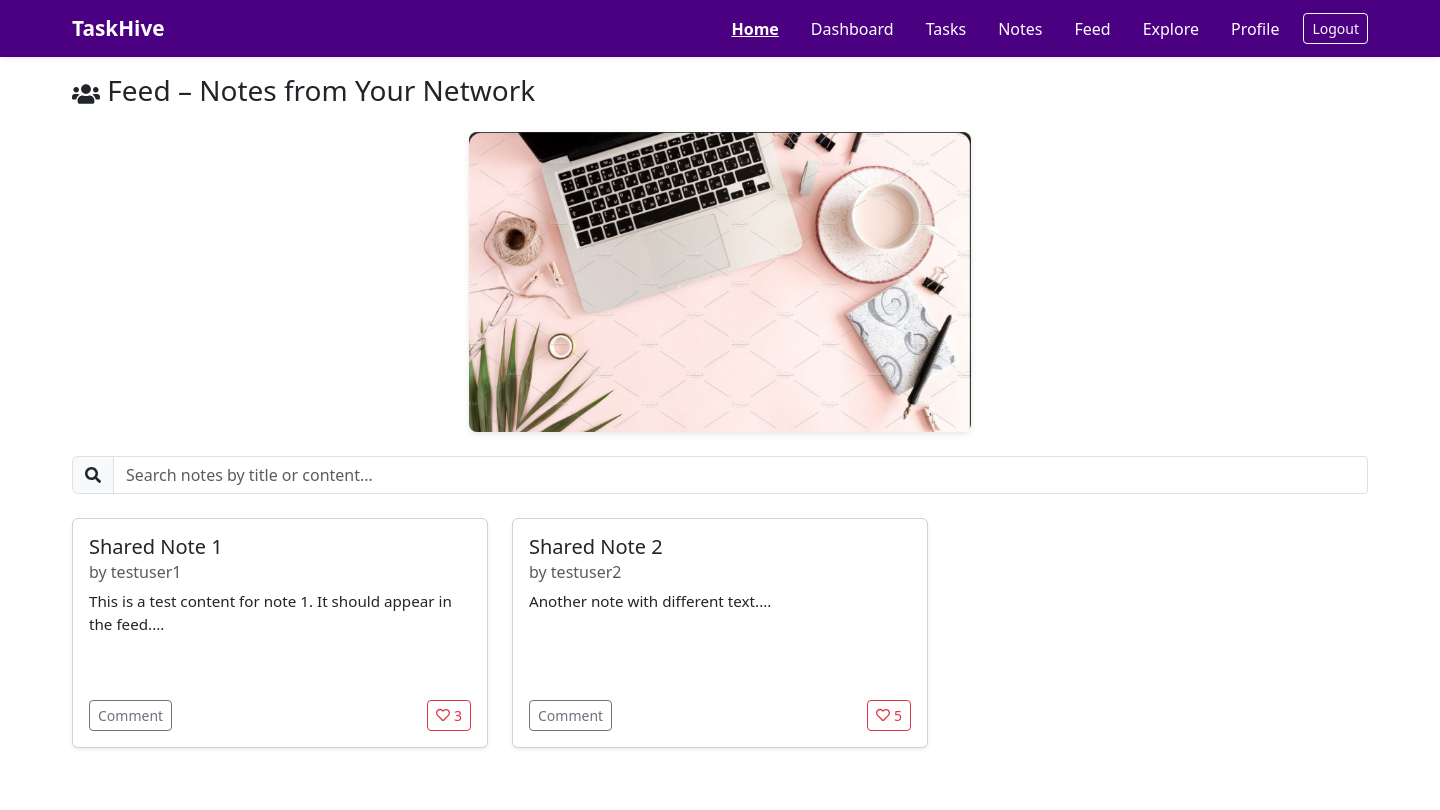
Test: FeedPage › renders feed notes and filters with search
The width and height of the screenshot is (1440, 810).
Expected: the text "Shared Note 1" is shown, 89,533 -> 223,560
Expected: the text "Shared Note 2" is shown, 529,533 -> 663,560
✅ Filter with search input
Type "Note 2" into the field with placeholder "Search notes by title or content...".
click(740, 475); type("Note 2")  # box 113,456 -> 1368,494
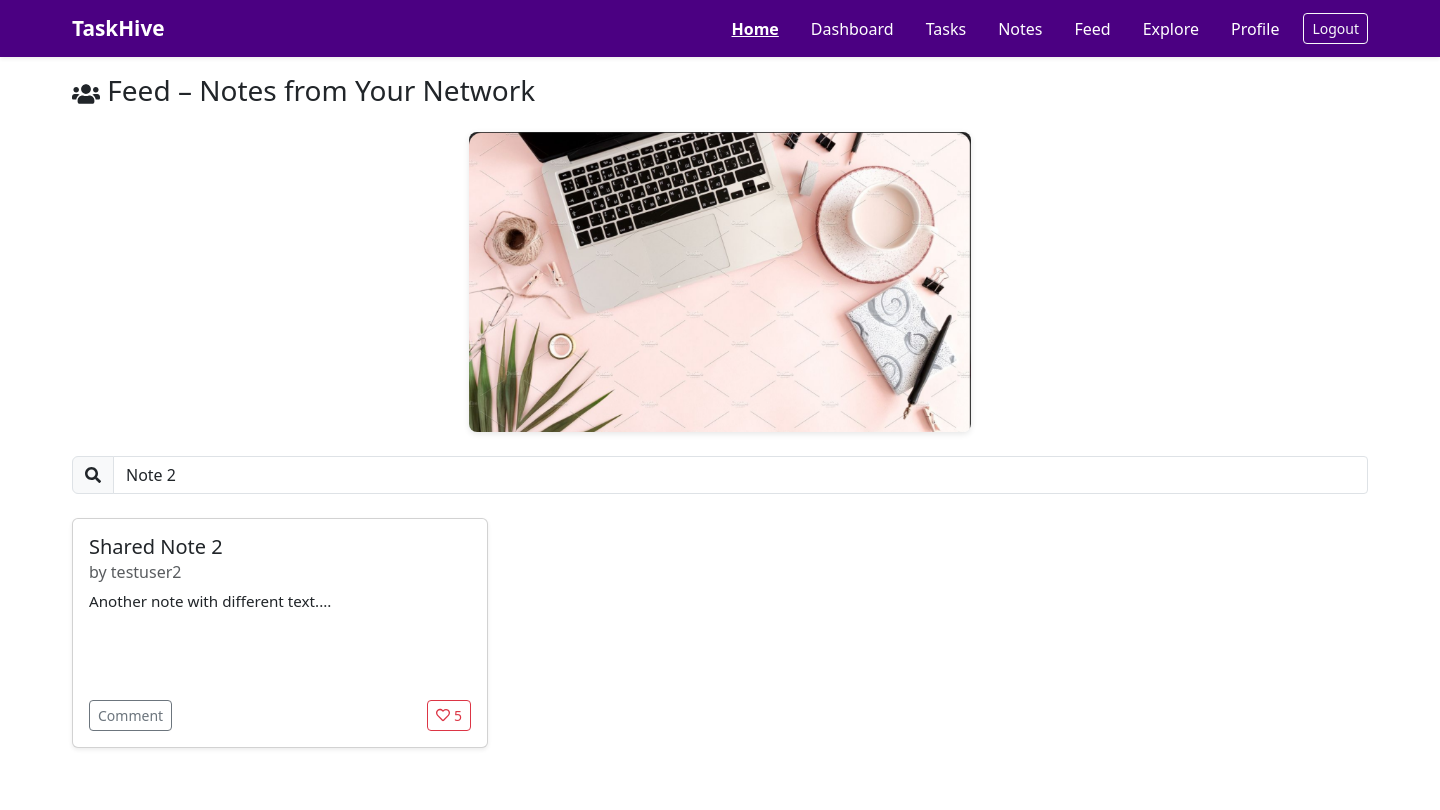
Expected: the text "Shared Note 2" is shown, 89,533 -> 223,560
Result: the text "Shared Note 1" is gone
